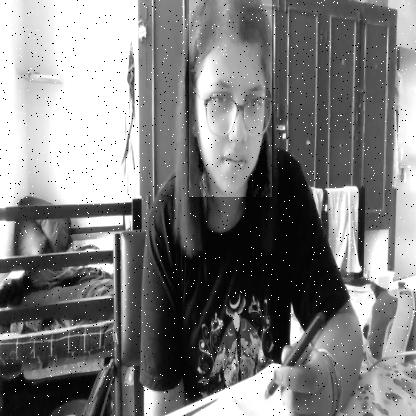Normal: (189, 0, 272, 197)
